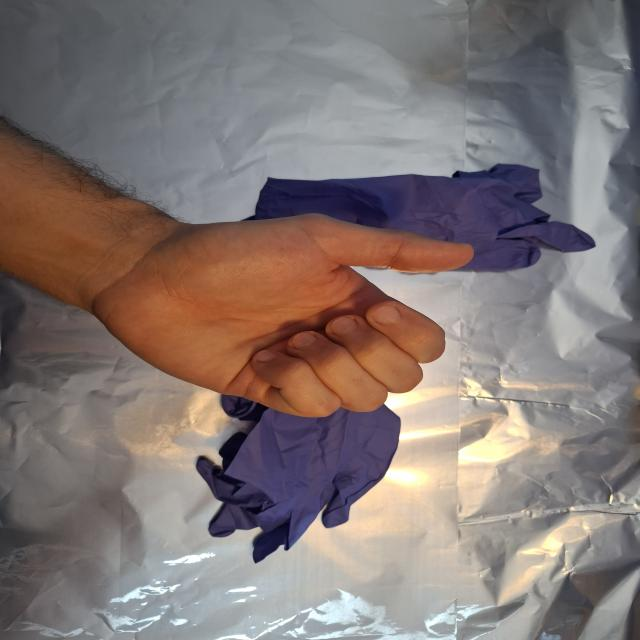glove_off: (89, 210, 479, 420)
